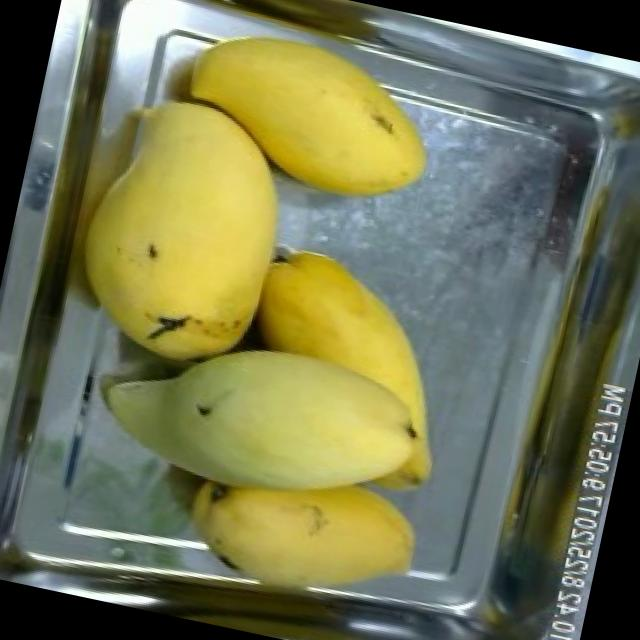fruit: (65, 293, 462, 572), (48, 64, 322, 380), (158, 7, 454, 226)
